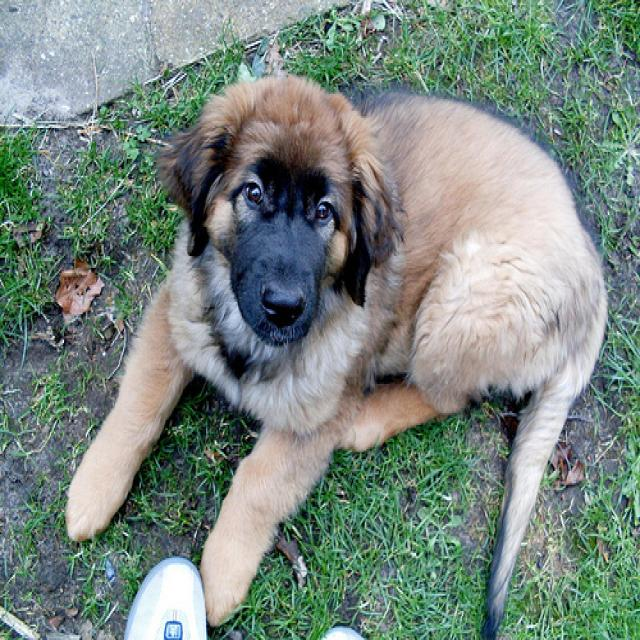dog-leonberger: (47, 58, 616, 637)
